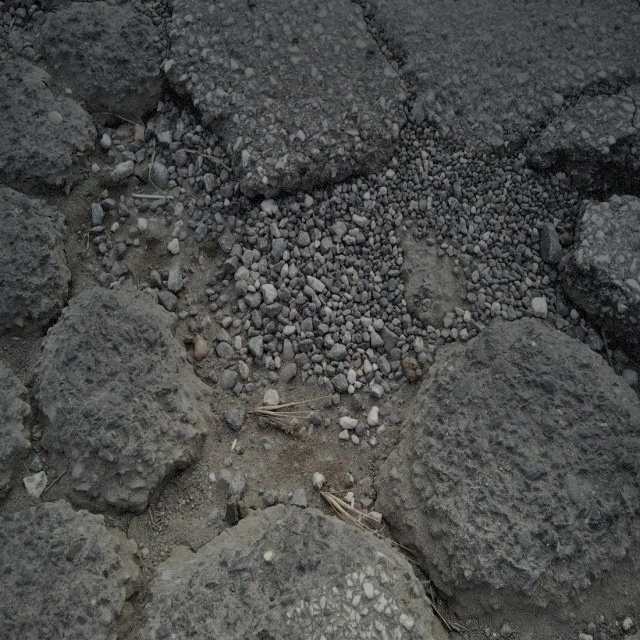pothole: (47, 57, 250, 355)
